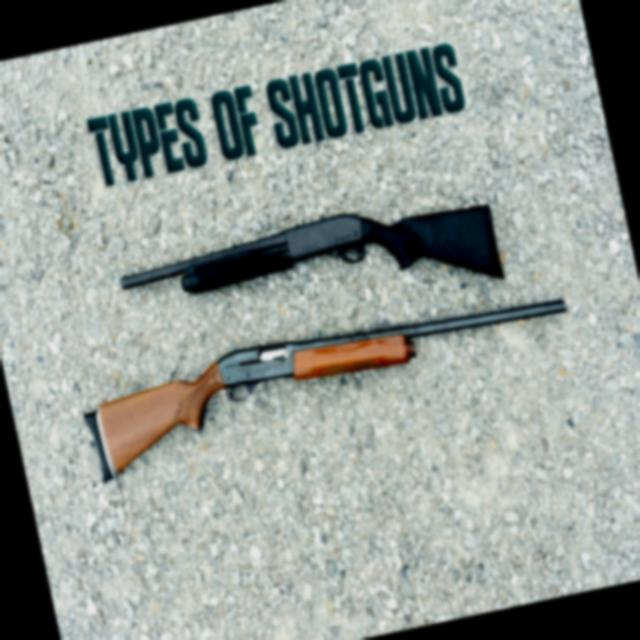shotgun: (78, 272, 603, 486), (98, 168, 519, 365)
